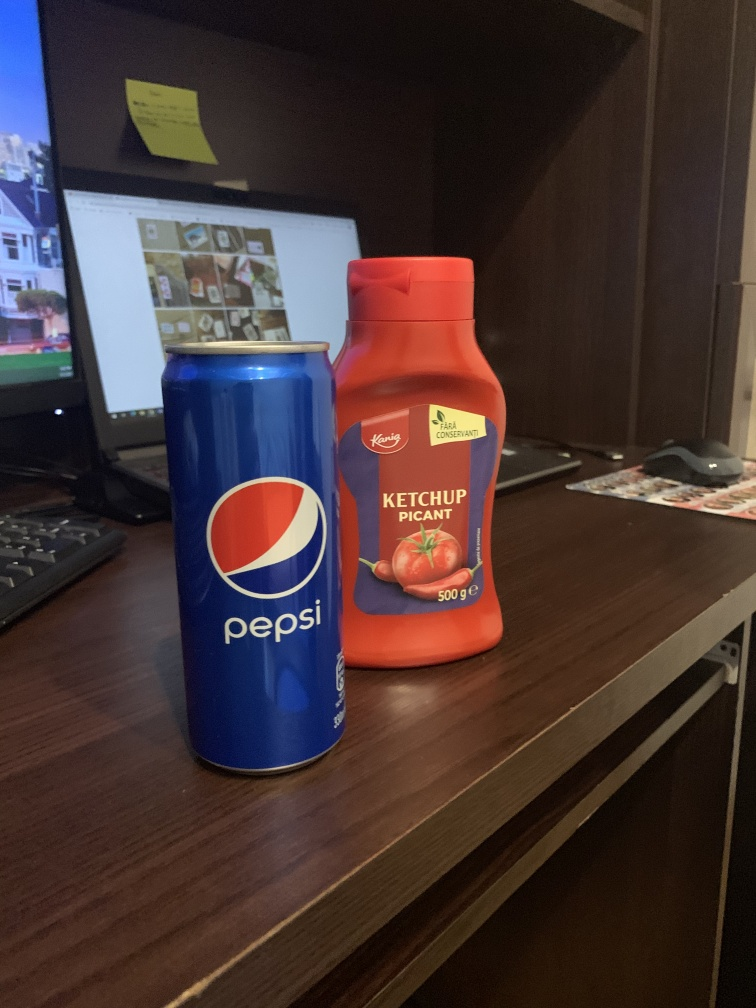ketchup: (329, 247, 512, 685)
pepsi: (156, 334, 348, 788)
